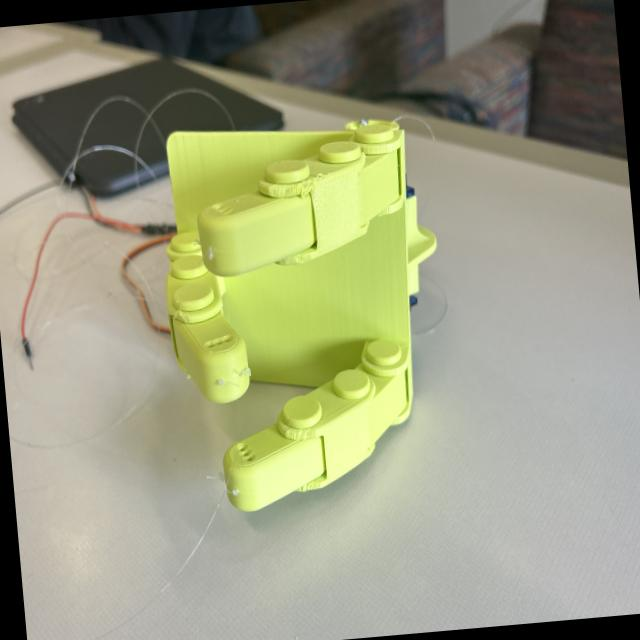prosthetic: (156, 94, 458, 538)
